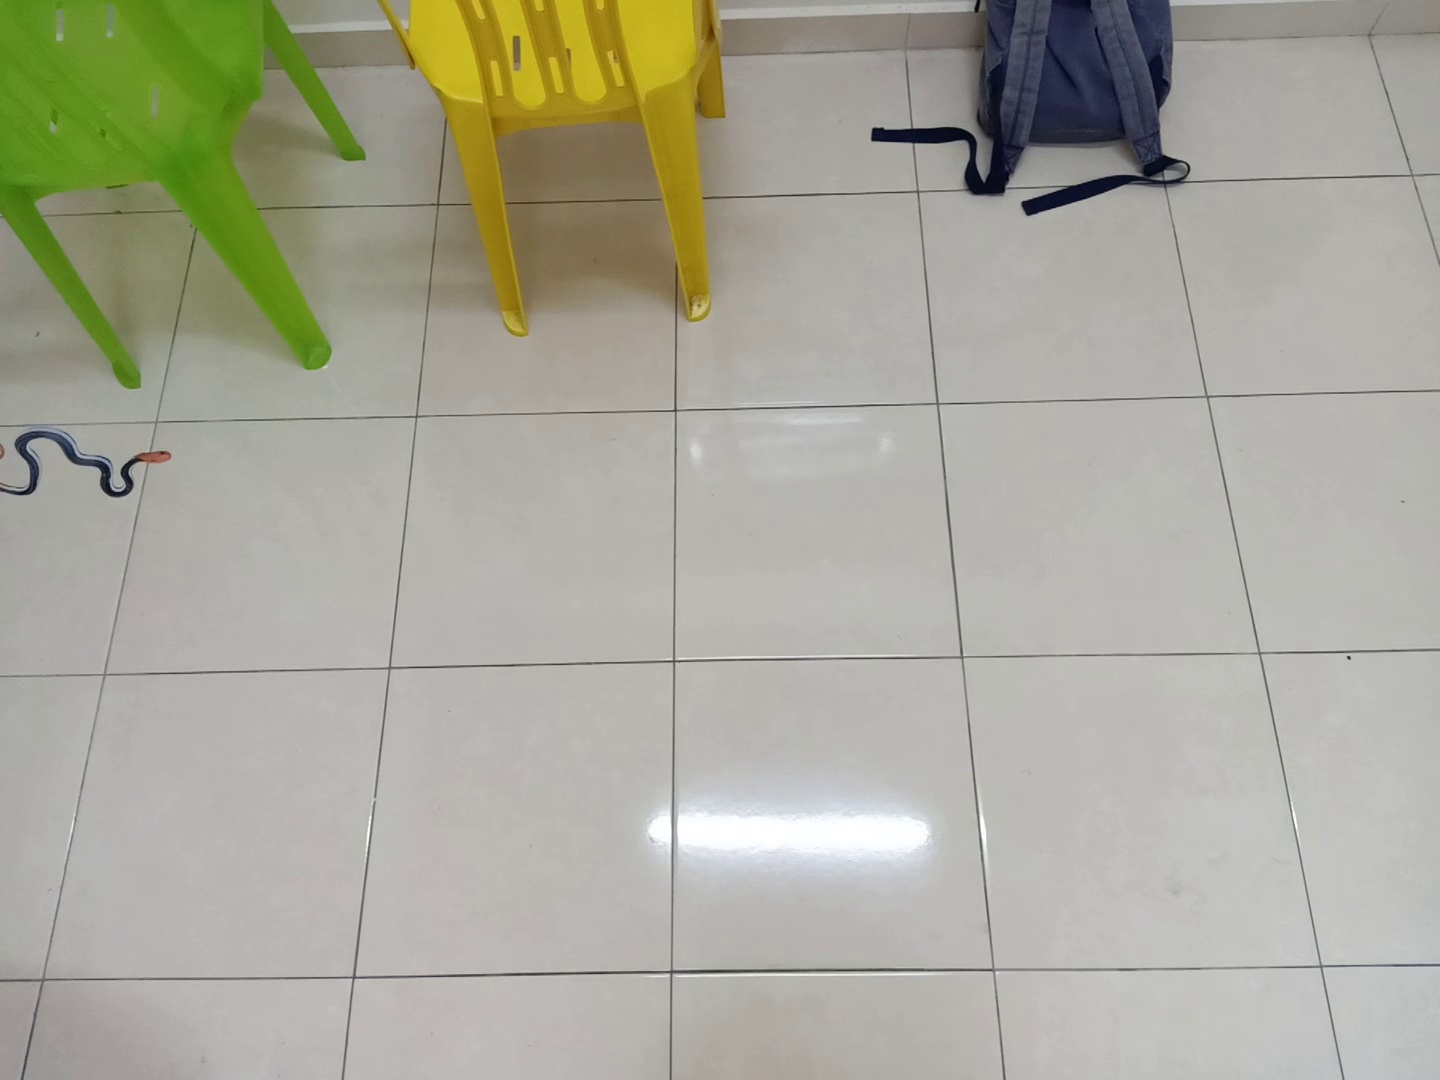snake: (1, 422, 180, 507)
